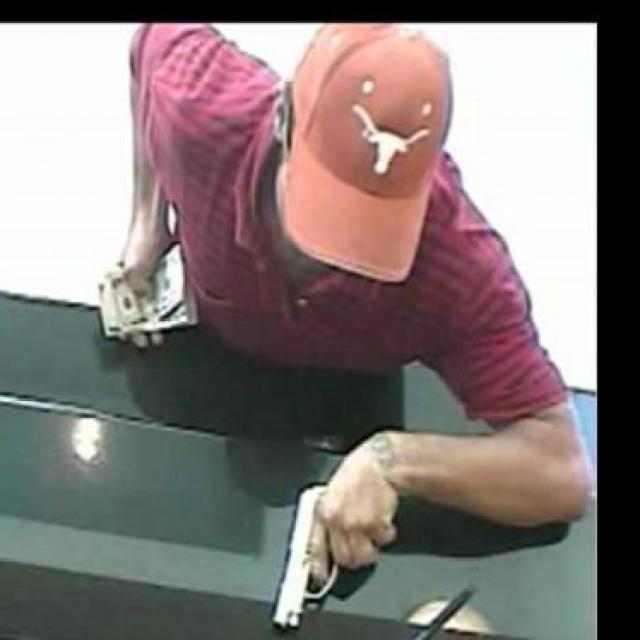Gun: (276, 476, 402, 628)
